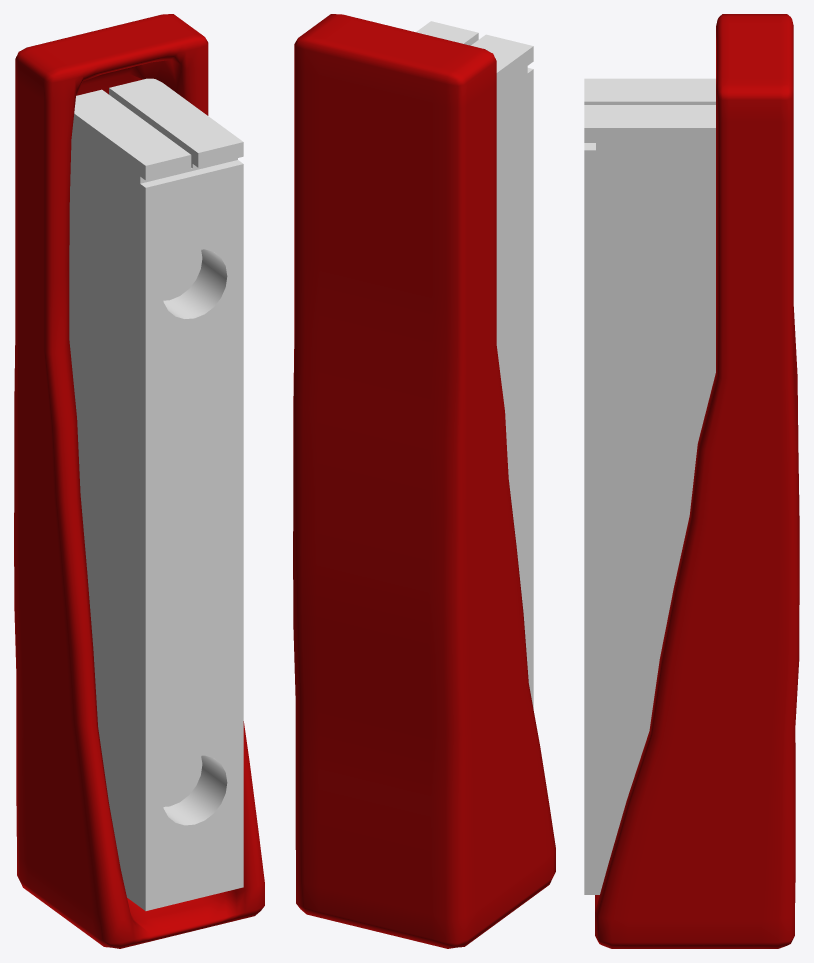
The model's file is Stapler.fbx.
3 renders of one model, left to right at view 1: azimuth 30°, elevation 25°; view 2: azimuth 150°, elevation 25°; view 3: azimuth 270°, elevation 25°, orthographic. The views are drawn at different scales.
Visible parts, largest first — view 1: pCube7; view 2: pCube7; view 3: pCube7.
Part boxes in pixels (x1,y1,x2,y2): pCube7: (14,14,264,948); pCube7: (293,14,555,948); pCube7: (584,14,799,948).
Size of the model in its own units: 5.48 by 27.15 by 6.14.
